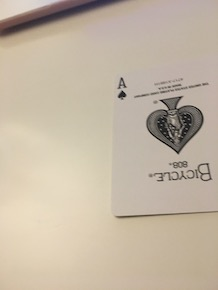AceOfSpades: (107, 59, 218, 225)
